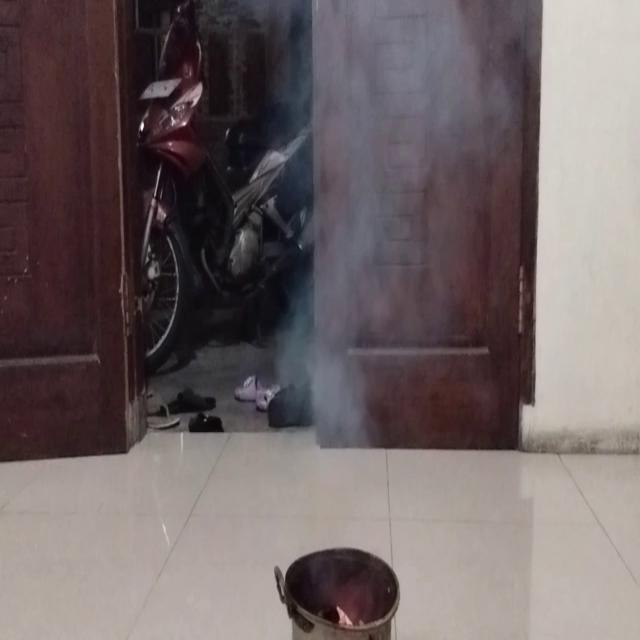fire: (278, 0, 481, 409)
